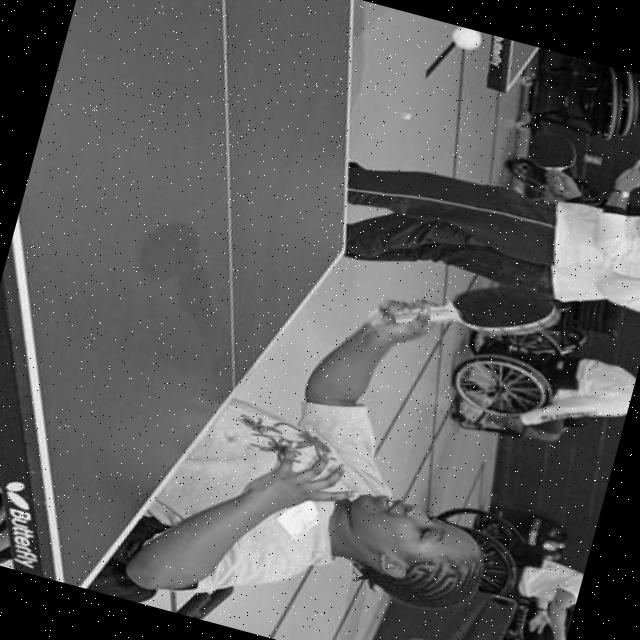ping-pong-ball: (446, 24, 484, 54), (398, 110, 412, 122)
